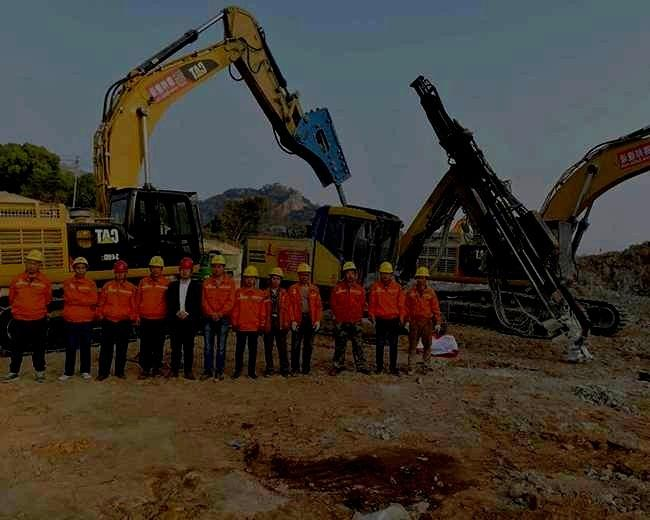helmet: (23, 248, 44, 273), (241, 265, 258, 287), (112, 260, 128, 283), (414, 266, 430, 288), (210, 254, 226, 276), (178, 256, 194, 278), (149, 255, 164, 278), (267, 266, 283, 287), (72, 256, 88, 277), (378, 262, 394, 282), (296, 262, 311, 283), (342, 261, 356, 283)
